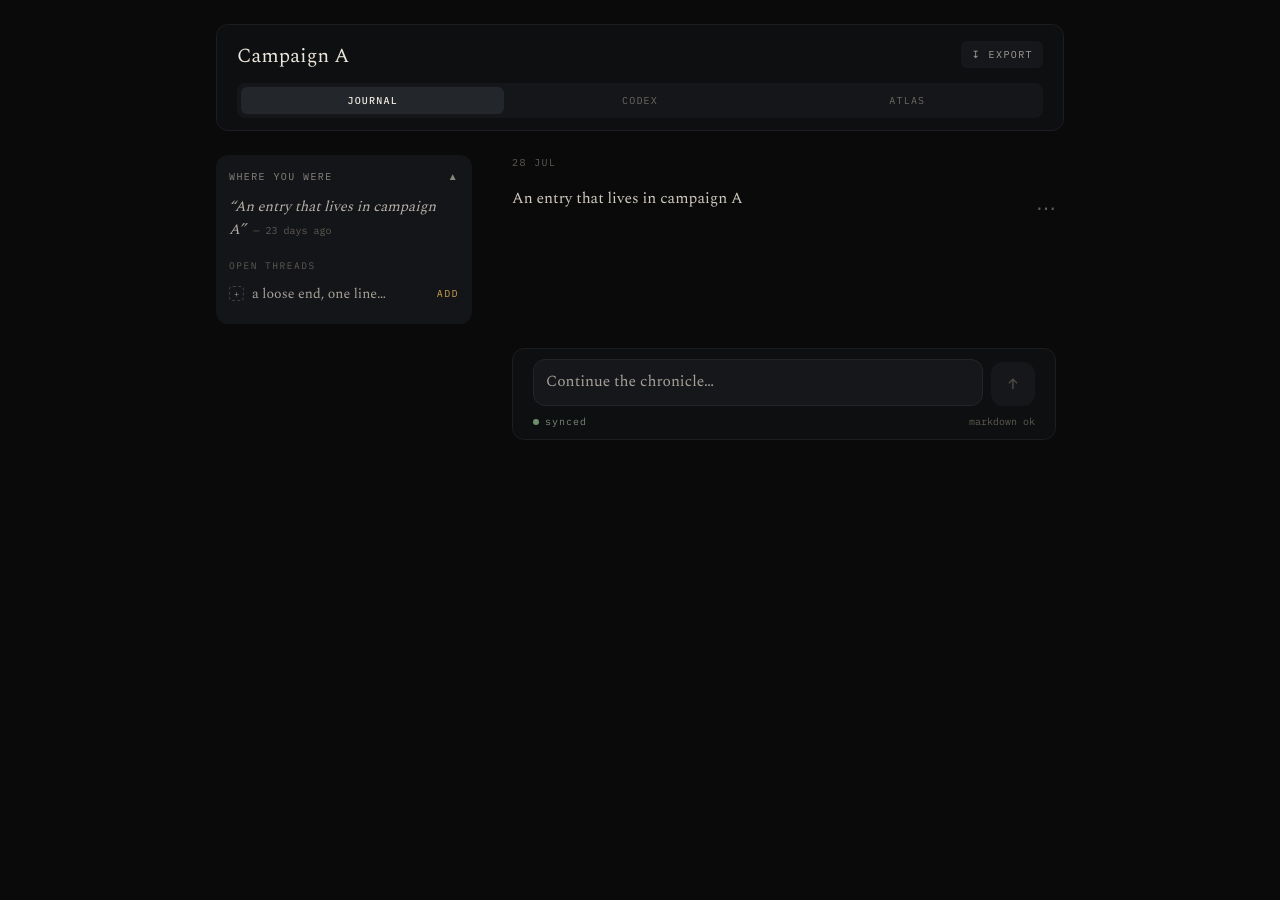
Test: Campaign delete — live counts, fallback selection (Lap 6) › confirm counts come from a live head-count query, not from loaded state
expect the text "An entry that lives in campaign A" is shown: met, box top-left (512, 187), bottom-right (743, 210)
Step 1. Click the button "Campaign A" → [293, 56], box top-left (237, 41), bottom-right (349, 71)
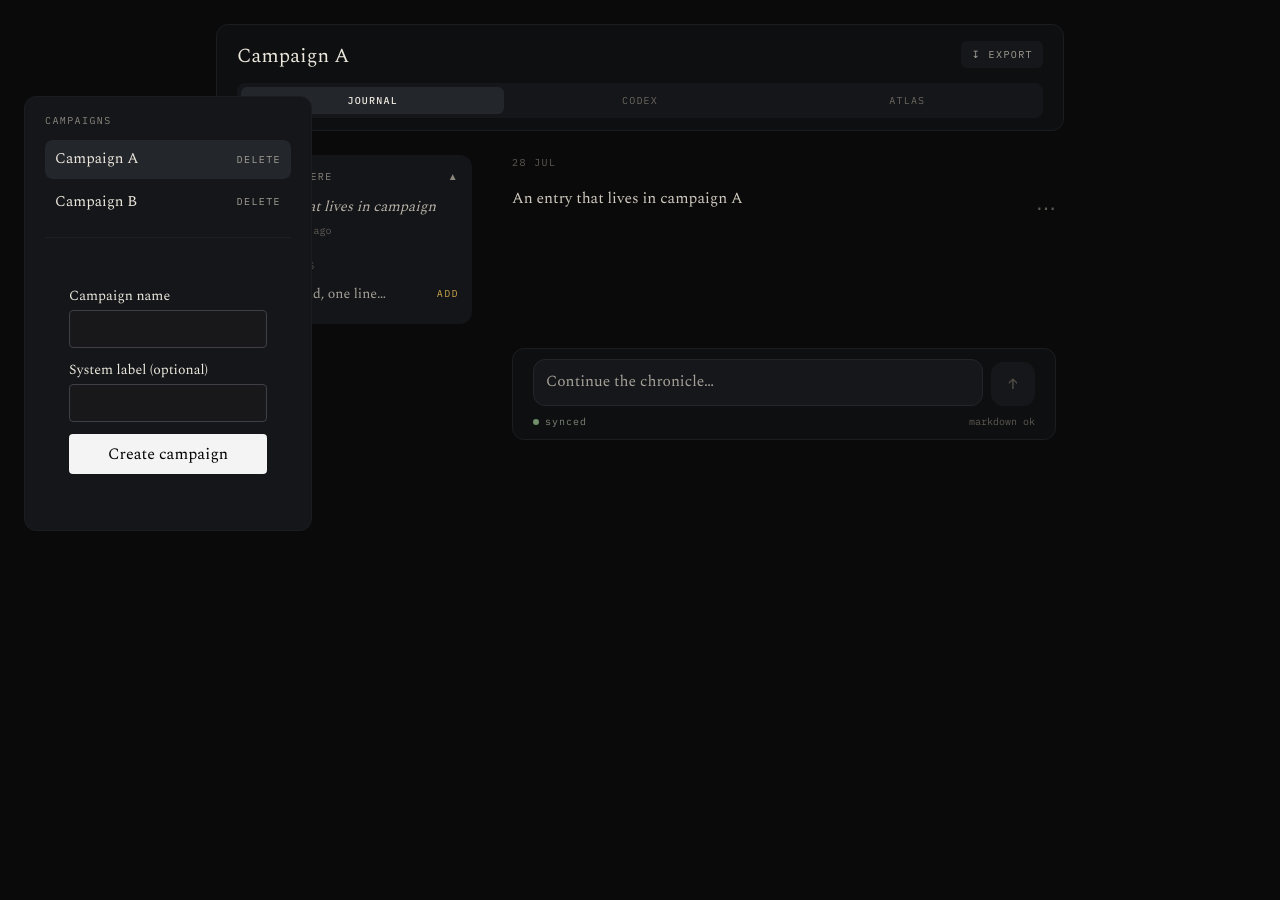
expect the text "Campaign B" is shown: met, box top-left (55, 190), bottom-right (137, 213)
Step 2. Click the button with aria-label "Delete Campaign B" → [255, 202], box top-left (229, 194), bottom-right (281, 209)
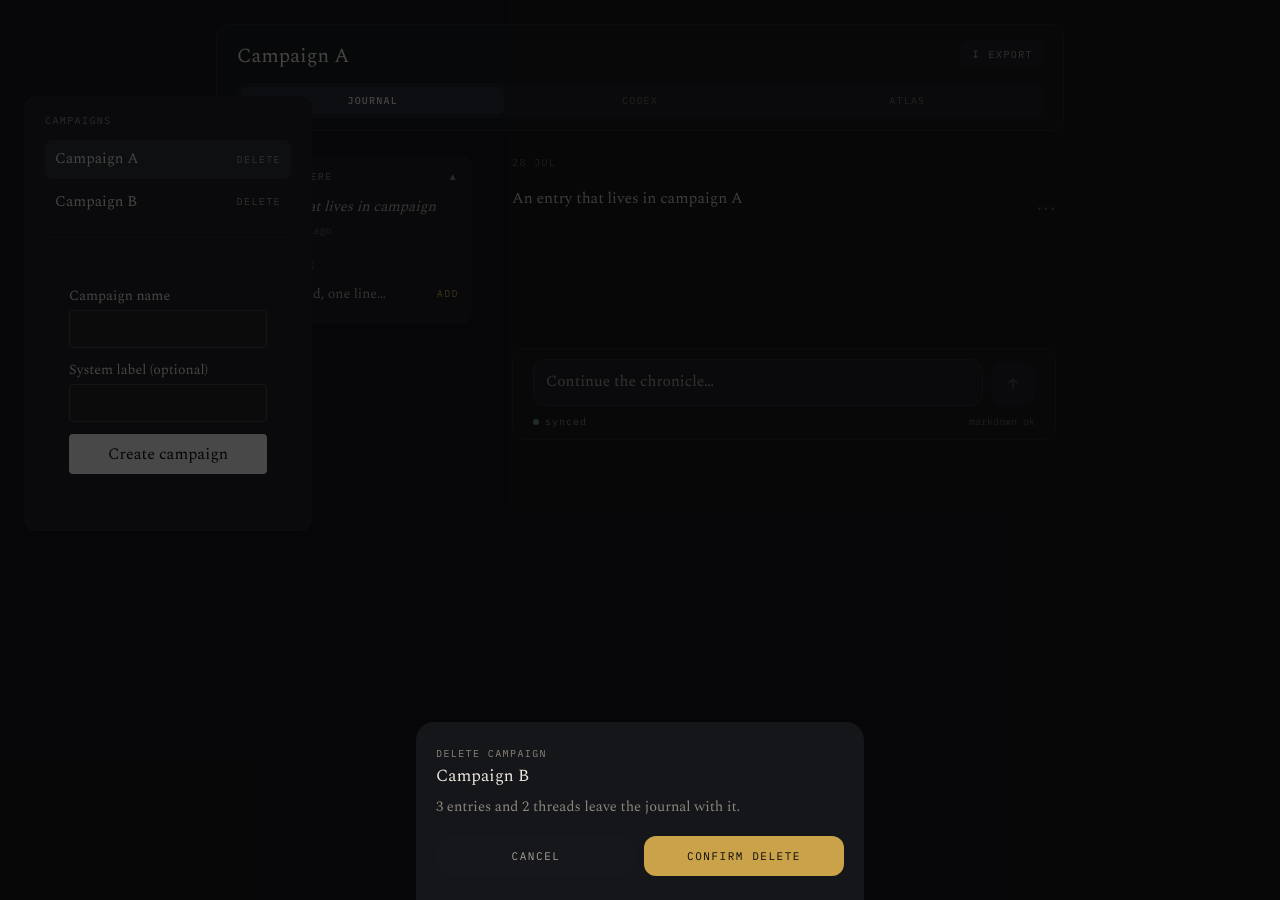
expect the text "3 entries and 2 threads leave the journal with it." is shown: met, box top-left (436, 796), bottom-right (740, 818)
